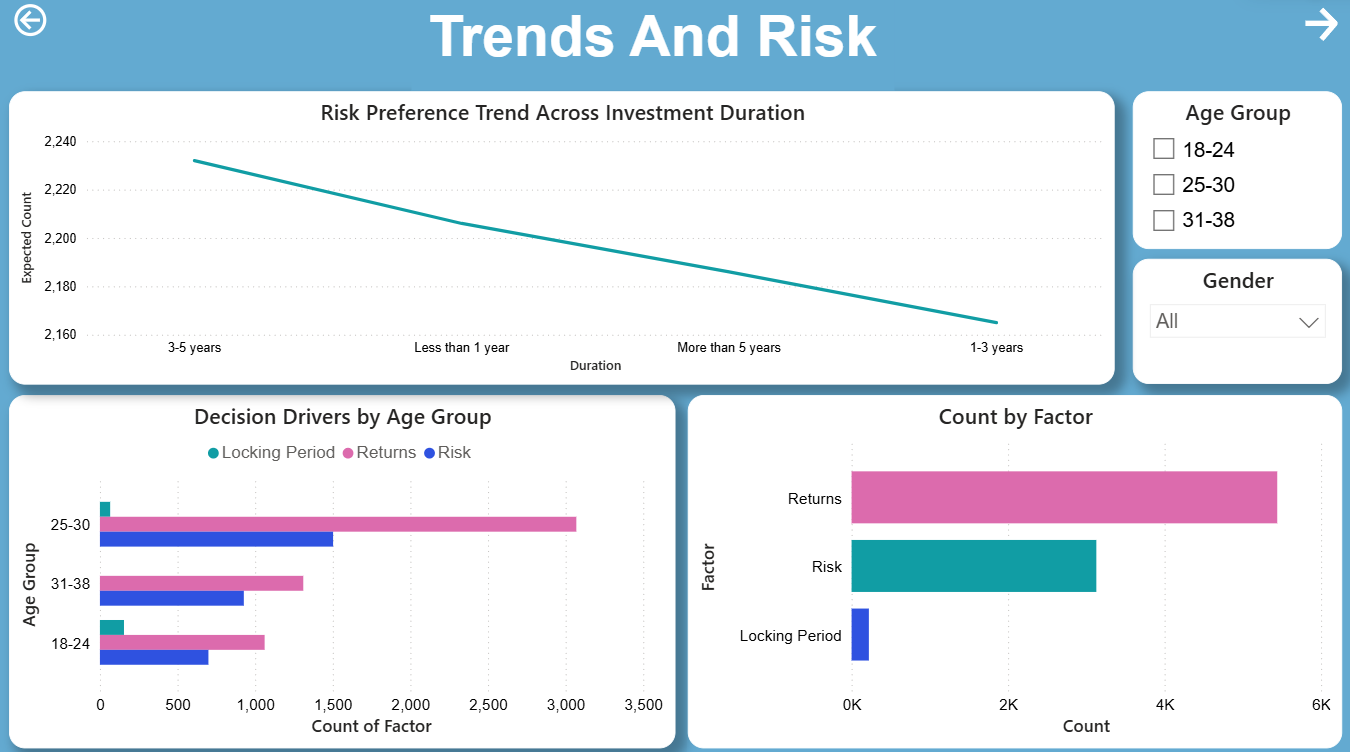

The dashboard page shown, as its layout file describes it:
{"tool":"powerbi","page":{"name":"Trends & Risk","canvas":[1280,720],"ordinal":1},"visuals":[{"type":"clusteredBarChart","title":"Decision Drivers by Age Group","fields":{"Category":["final_data.age_group"],"Y":["CountNonNull(final_data.Factor)"],"Series":["final_data.Factor"]},"box":[18.1,377.6,621.3,329.4],"z":0},{"type":"slicer","title":"Gender","fields":{"Values":["final_data.gender"]},"box":[1066.5,250.9,195.4,117],"z":1000},{"type":"lineChart","title":"Risk Preference Trend Across Investment Duration","fields":{"Category":["final_data.Duration"],"Y":["CountNonNull(final_data.Expect)"]},"box":[18.1,94.1,1031.5,273.9],"z":2000},{"type":"textbox","box":[394.5,8.4,450,85.7],"z":3000},{"type":"barChart","title":"Count by Factor","fields":{"Category":["final_data.Factor"],"Y":["final_data.Total Respondents"]},"box":[651.5,377.6,610.5,329.4],"z":4000},{"type":"slicer","title":"Age Group","fields":{"Values":["final_data.age_group"]},"box":[1066.5,94.1,195.4,147.2],"z":5000},{"type":"actionButton","box":[1222.1,8.4,39.8,48.3],"z":6000},{"type":"actionButton","box":[18.1,8.4,45.8,39.8],"z":7000}]}

Visuals, with their boxes in screenshot pixels (x1, y1, x2, y2), scaled from the page's 1280x720 canvas onto the 1350x752 screenshot:
"Decision Drivers by Age Group" clusteredBarChart: (left=19, top=394, right=674, bottom=738)
"Gender" slicer: (left=1125, top=262, right=1331, bottom=384)
"Risk Preference Trend Across Investment Duration" lineChart: (left=19, top=98, right=1107, bottom=384)
textbox: (left=416, top=9, right=891, bottom=98)
"Count by Factor" barChart: (left=687, top=394, right=1331, bottom=738)
"Age Group" slicer: (left=1125, top=98, right=1331, bottom=252)
actionButton: (left=1289, top=9, right=1331, bottom=59)
actionButton: (left=19, top=9, right=67, bottom=50)
